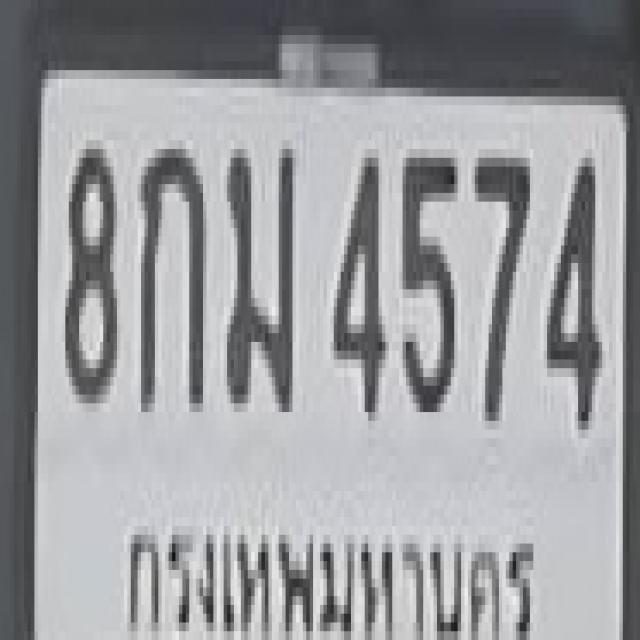4: (544, 149, 598, 421), (330, 149, 382, 412)
5: (399, 149, 454, 403)
7: (472, 149, 526, 412)
8: (62, 140, 113, 394)
A01: (138, 140, 203, 404)
A33: (224, 140, 292, 404)
BKK: (117, 495, 543, 640)
